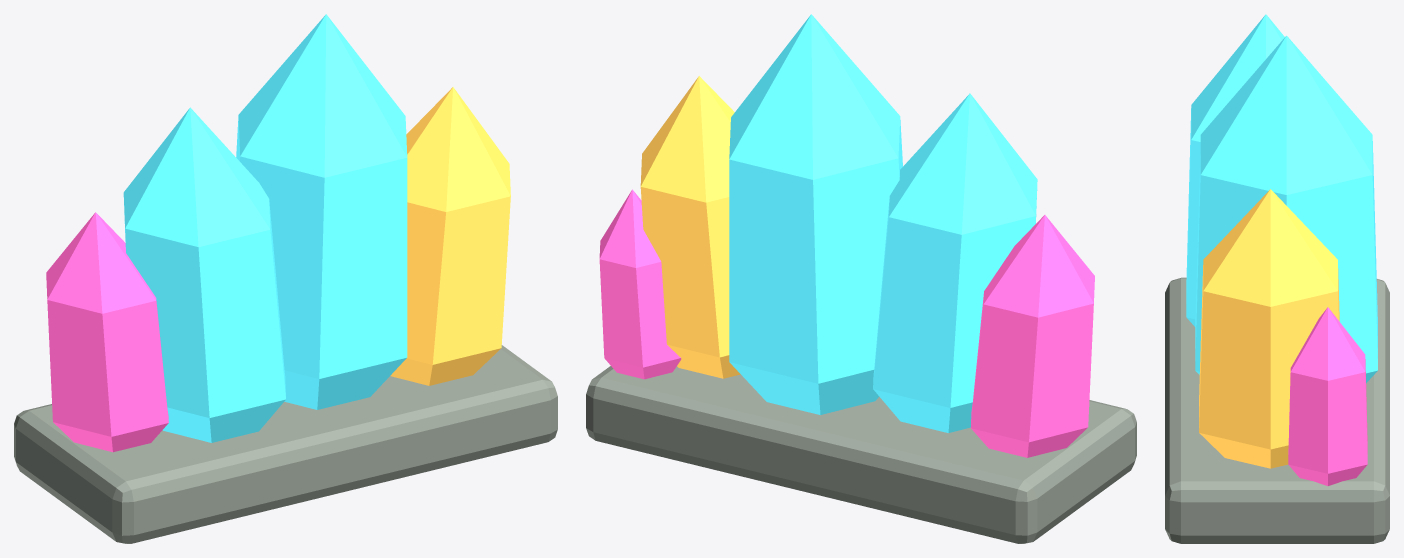
The model's file is crystal-barrier.glb.
The picture shows the model from 3 angles, left to right: view 1: azimuth 30°, elevation 25°; view 2: azimuth 150°, elevation 25°; view 3: azimuth 270°, elevation 25°; orthographic projection.
Parts seen in each view (by area): view 1: crystal-barrier; view 2: crystal-barrier; view 3: crystal-barrier.
Part boxes in pixels (x1,y1,x2,y2): crystal-barrier: [14, 14, 557, 543]; crystal-barrier: [586, 14, 1136, 543]; crystal-barrier: [1165, 14, 1389, 543].
Bounding box in the file's own units: 1.17 × 1.03 × 0.49.
